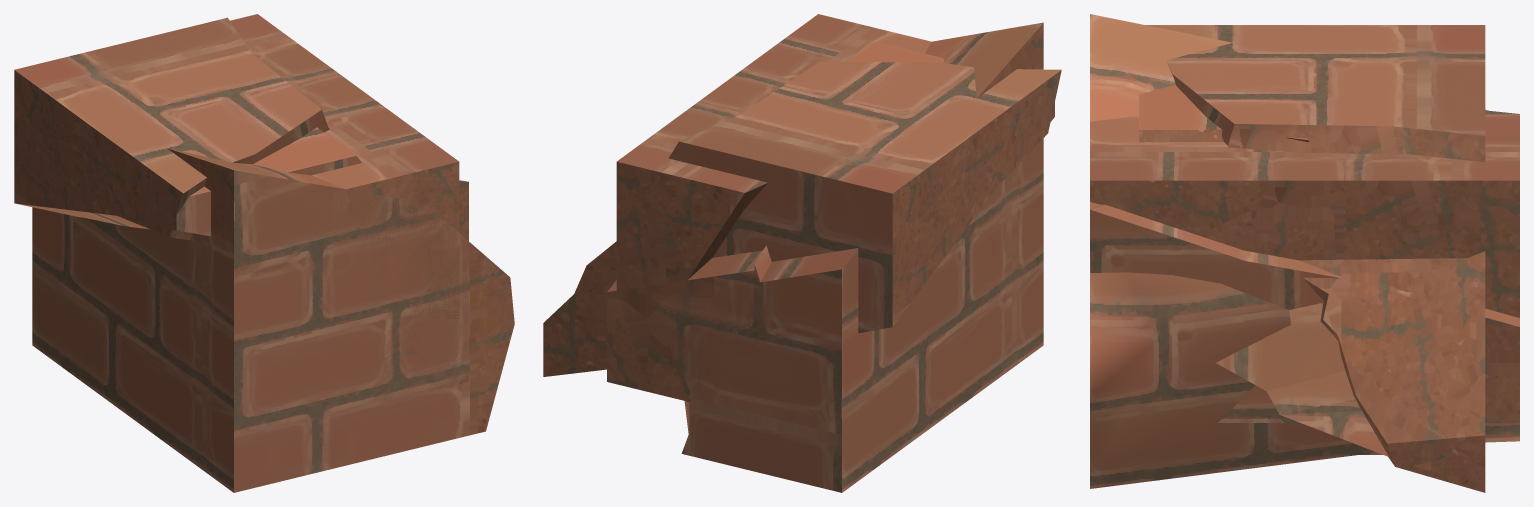
The model's file is block_gibs.fbx.
3 views of the same model, side by side, from view 1: azimuth 30°, elevation 25°; view 2: azimuth 150°, elevation 25°; view 3: azimuth 270°, elevation 25° (orthographic). The views are drawn at different scales.
Parts seen in each view (by area): view 1: gib1, gib3, gib6, gib5, gib2; view 2: gib1, gib3, gib6, gib5, gib2; view 3: gib3, gib6, gib1, gib5, gib2.
Part boxes in pixels (box(x1,y1,x2,y2)): gib1: box(32, 148, 514, 492); gib3: box(14, 17, 329, 240); gib6: box(230, 14, 459, 318); gib5: box(372, 179, 468, 403); gib2: box(137, 127, 361, 236); gib1: box(651, 22, 1043, 492); gib3: box(543, 61, 1061, 376); gib6: box(616, 14, 931, 376); gib5: box(607, 245, 795, 415); gib2: box(849, 41, 1054, 166); gib3: box(1145, 25, 1485, 492); gib6: box(1090, 110, 1519, 317); gib1: box(1090, 14, 1519, 488); gib5: box(1090, 202, 1519, 422); gib2: box(1139, 84, 1470, 480).
Bounding box in the file's own units: 32 × 28.25 × 32.
Materials: 1 (1 with a texture image).
